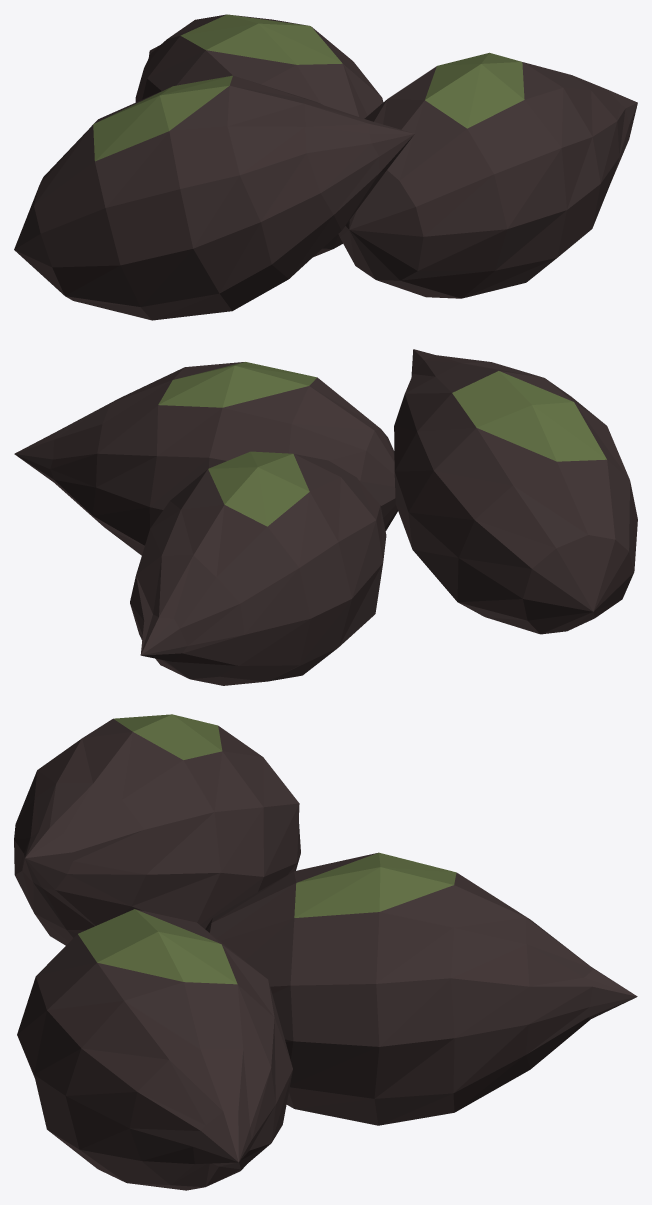
Rendered from olive.glb.
3 views of the same model, one above another, from view 1: azimuth 30°, elevation 25°; view 2: azimuth 150°, elevation 25°; view 3: azimuth 270°, elevation 25° (orthographic). The views are drawn at different scales.
Bounding box in the file's own units: 2.62 × 1.11 × 2.05.
